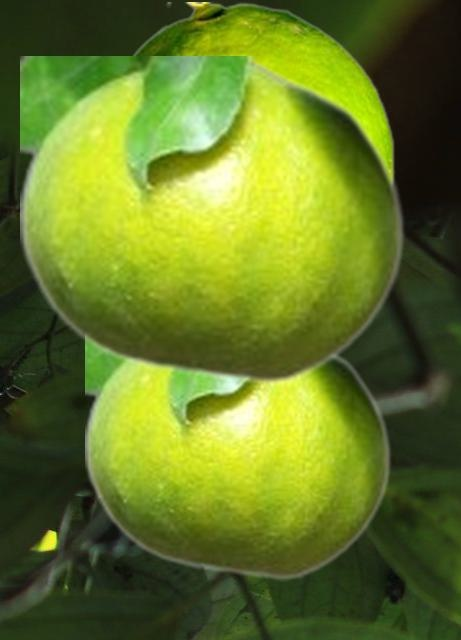dalandan: (20, 56, 405, 385), (85, 345, 391, 580), (128, 2, 394, 172)
